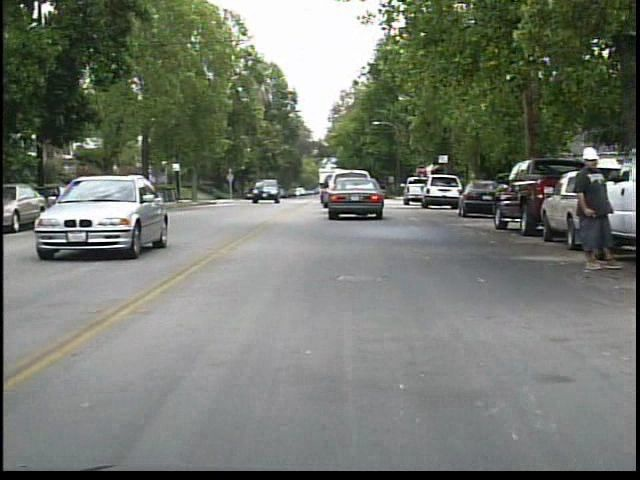person: (568, 143, 622, 273)
